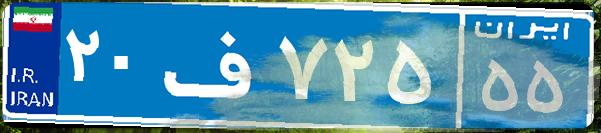0: (110, 28, 158, 105)
2: (330, 28, 385, 110), (57, 26, 110, 107)
5: (385, 28, 445, 110), (475, 38, 525, 113), (525, 38, 570, 115)
7: (273, 28, 330, 110)
ف: (158, 15, 273, 115)
